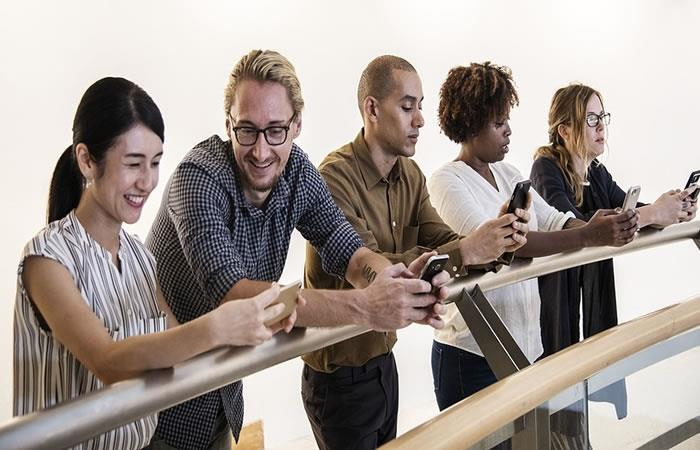person: (20, 48, 170, 319), (181, 50, 331, 266), (341, 42, 433, 267), (442, 51, 538, 240), (535, 69, 616, 229)
